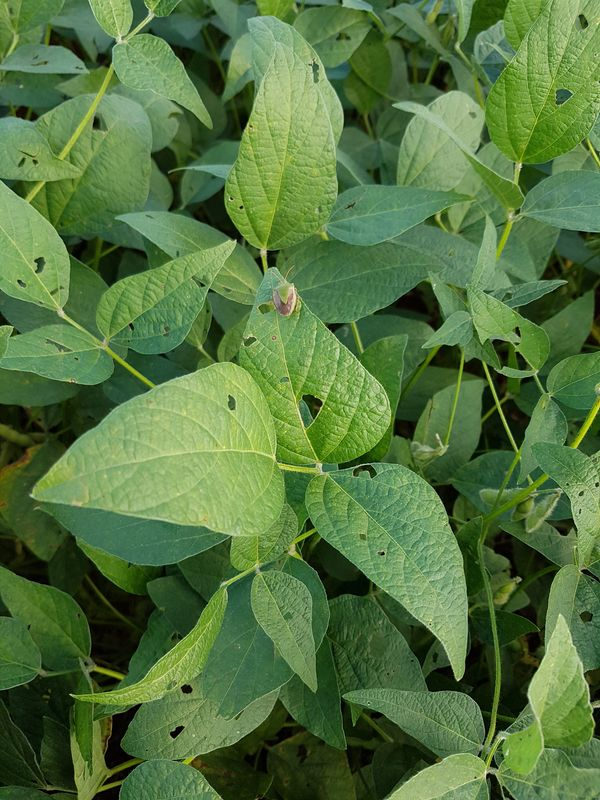Edessa_meditabunda: (264, 267, 305, 320)
